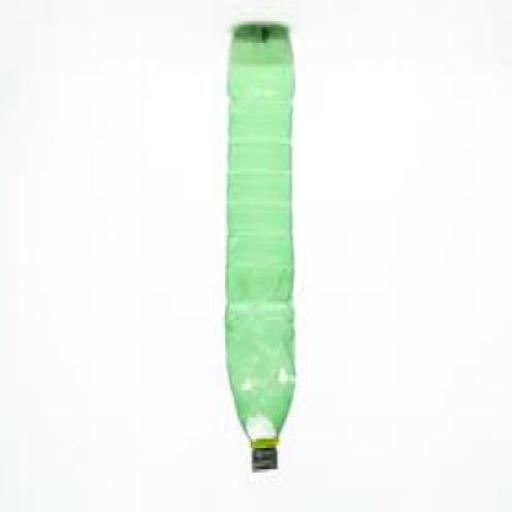plastic: (227, 28, 299, 476), (254, 442, 280, 472)
